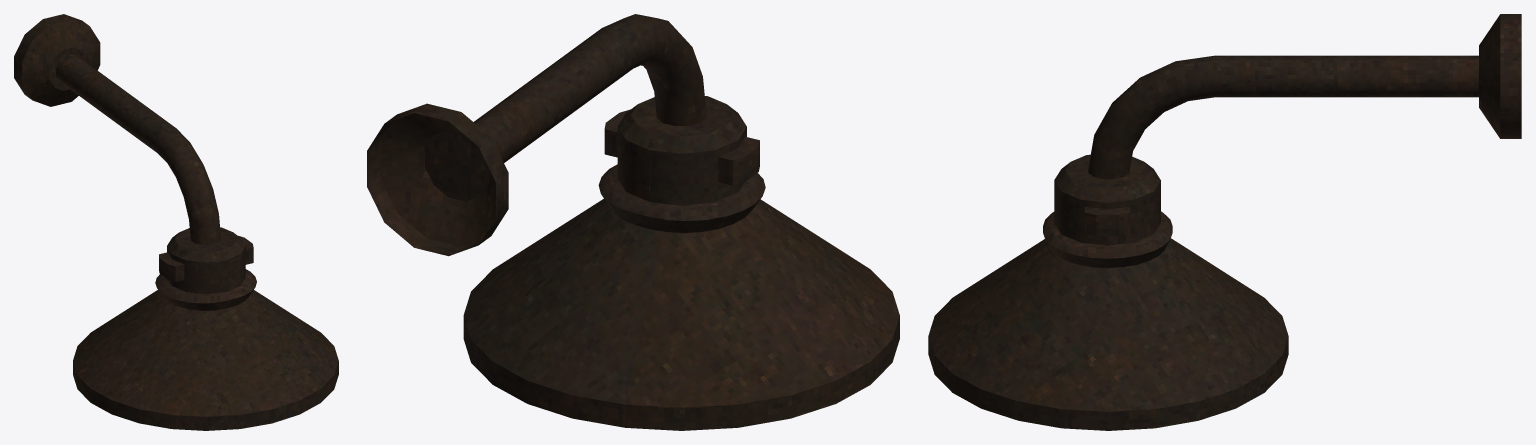
File: lamp_mx_4_off.glb
3 views of the same model, side by side, from view 1: azimuth 30°, elevation 25°; view 2: azimuth 150°, elevation 25°; view 3: azimuth 270°, elevation 25° (orthographic). The views are drawn at different scales.
Visible parts, largest first — view 1: lamp_mx_4_off; view 2: lamp_mx_4_off; view 3: lamp_mx_4_off.
Part boxes in pixels (x1=…): lamp_mx_4_off: x1=14, y1=14, x2=338, y2=430; lamp_mx_4_off: x1=367, y1=14, x2=899, y2=430; lamp_mx_4_off: x1=928, y1=14, x2=1521, y2=430.
Size of the model in its own units: 0.51 by 0.5559 by 0.84.
2 materials, 2 textured.
